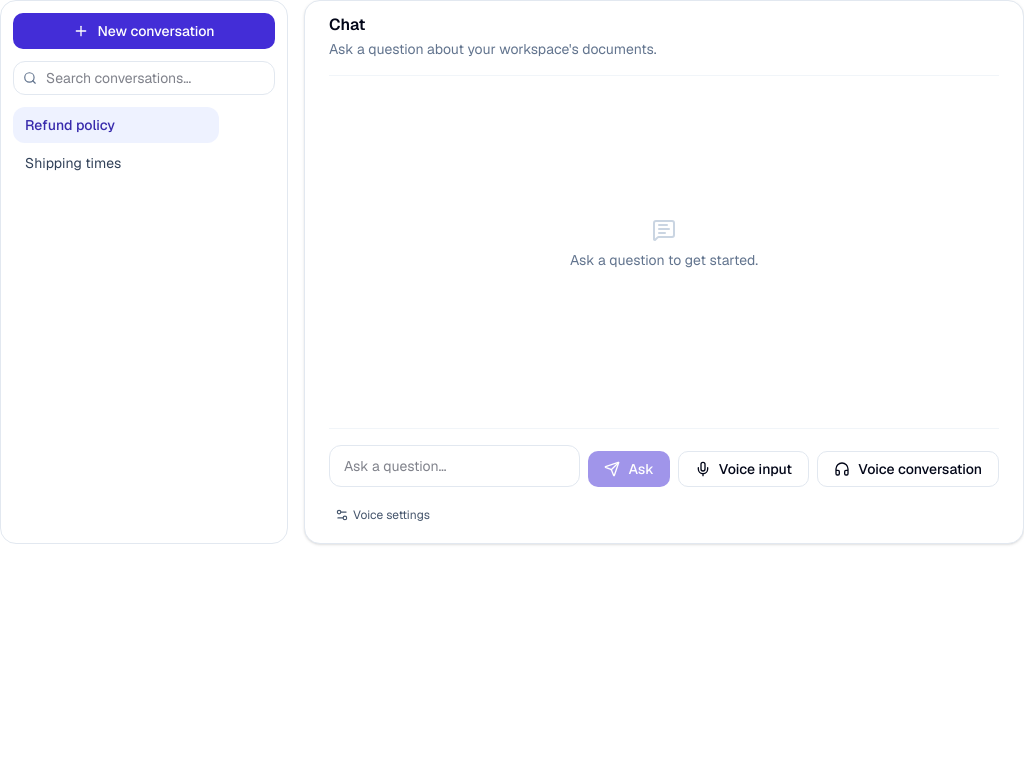
Scenario: ChatPage › filters the conversation list by a search query
Expected: the button "Refund policy" is shown, [13,107,219,143]
Type "refund" into the search field labelled "Search conversations…" at coordinates (144, 78), box [13,61,275,95]
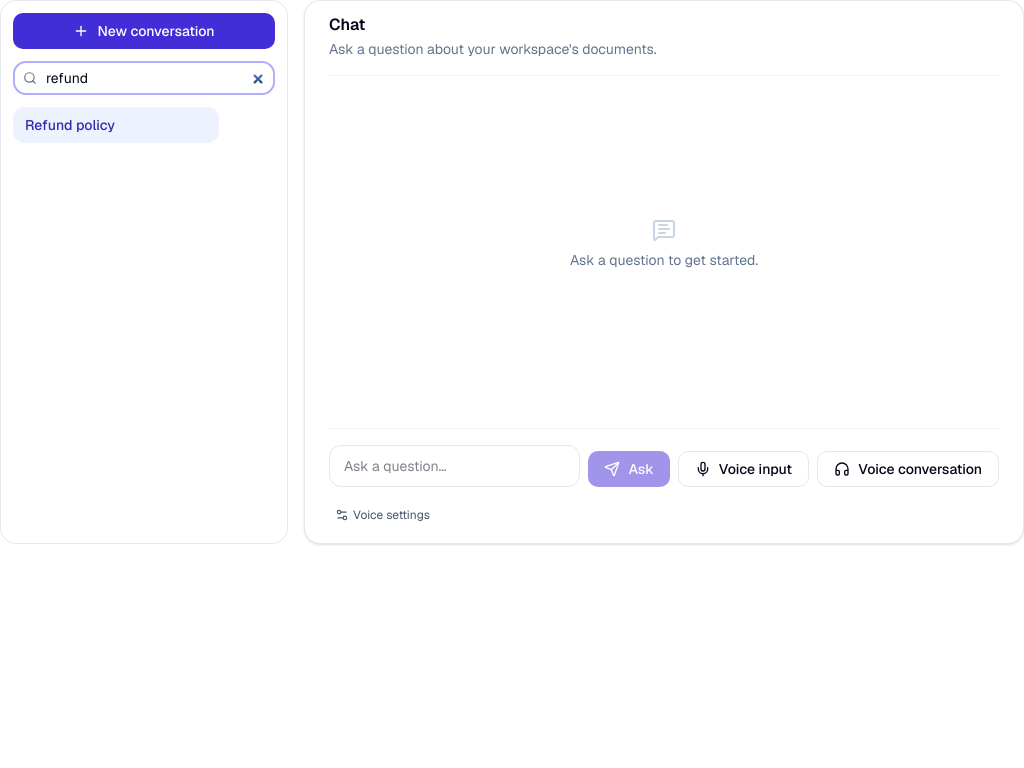
Expected: the button "Refund policy" is shown, [13,107,219,143]
Expected: the button "Shipping times" is gone
